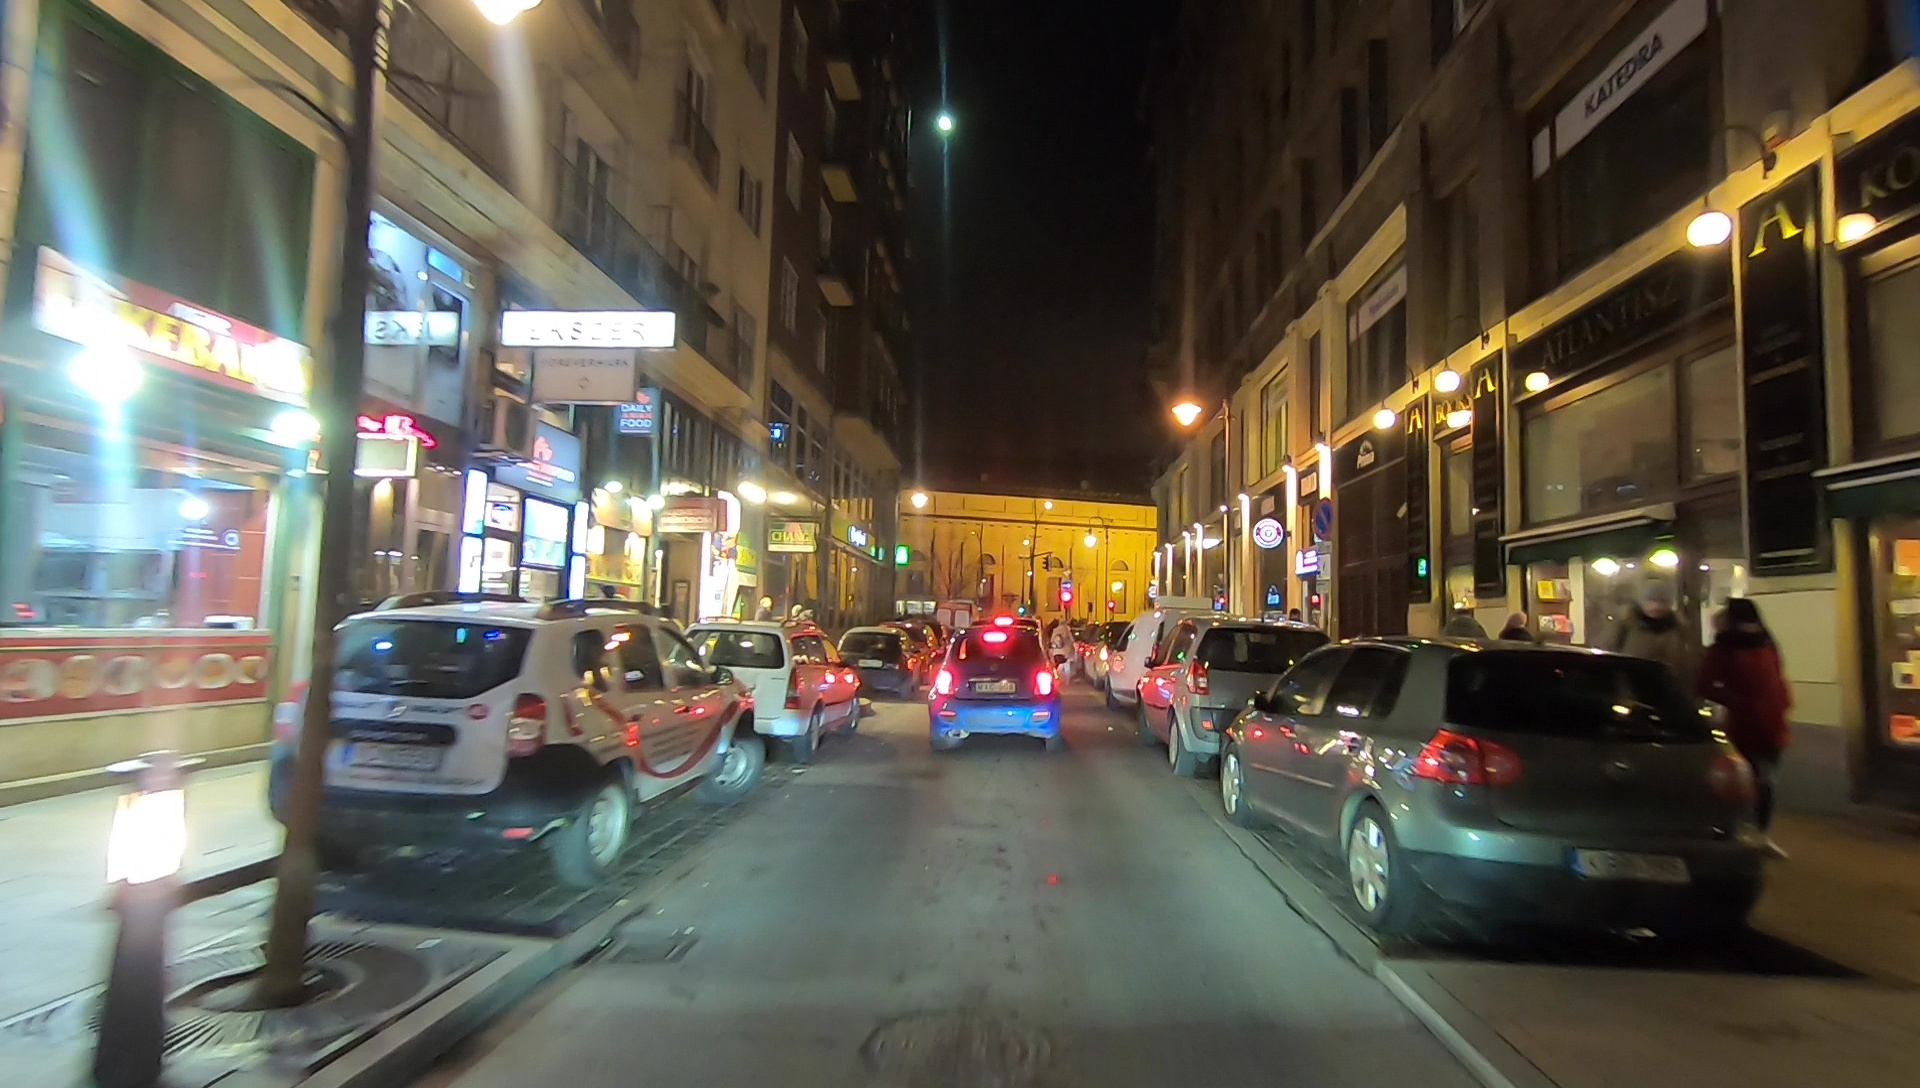person: (1604, 567, 1699, 841), (1697, 591, 1789, 863)
